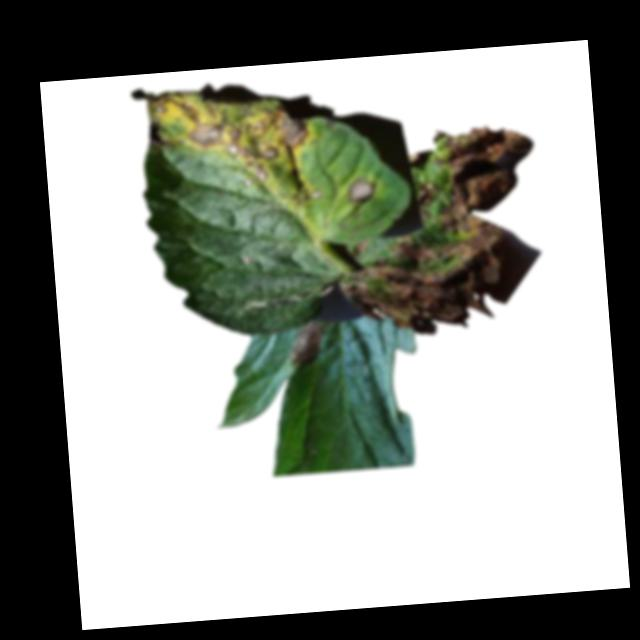Early_blight: (330, 122, 544, 334), (145, 81, 312, 187), (282, 323, 326, 368), (344, 175, 376, 206)
